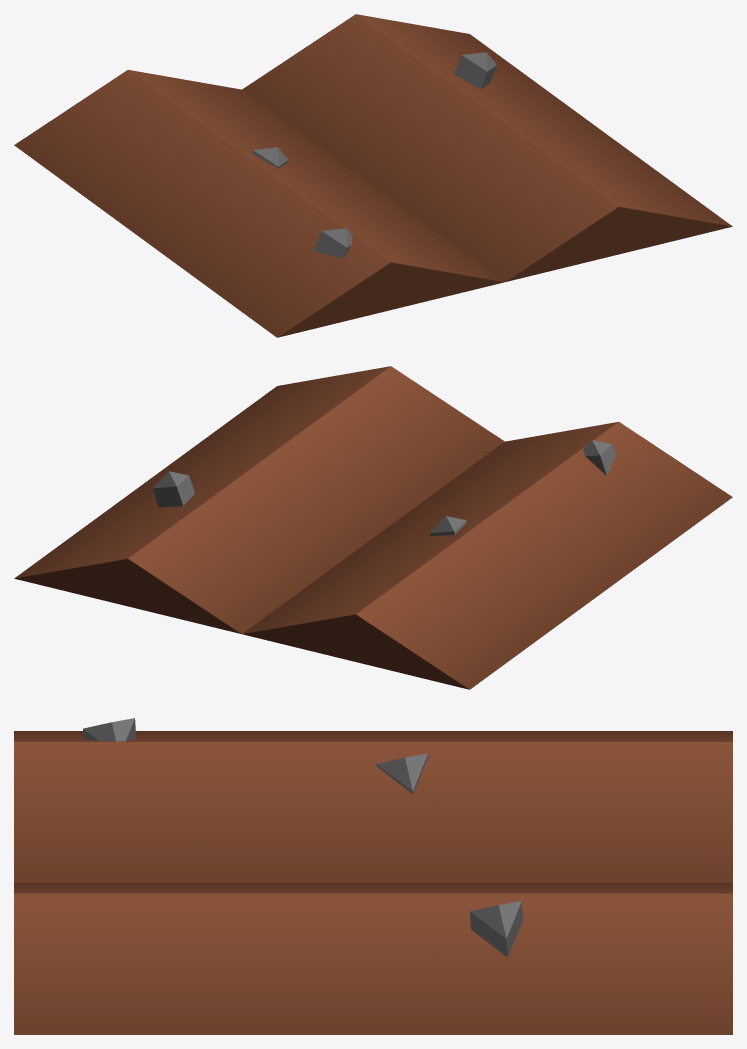
File: farmpack2023dirtplowed.fbx
3 views of the same model, one above another, from view 1: azimuth 30°, elevation 25°; view 2: azimuth 150°, elevation 25°; view 3: azimuth 270°, elevation 25° (orthographic). The views are drawn at different scales.
Visible parts, largest first — view 1: Sphere.022; view 2: Sphere.022; view 3: Sphere.022.
Boxes of the visible parts, box(x1,y1,x2,y2) form: Sphere.022: box(14, 14, 732, 337); Sphere.022: box(14, 366, 732, 689); Sphere.022: box(14, 718, 732, 1034).
Bounding box in the file's own units: 1.99 × 1.99 × 0.2558.
